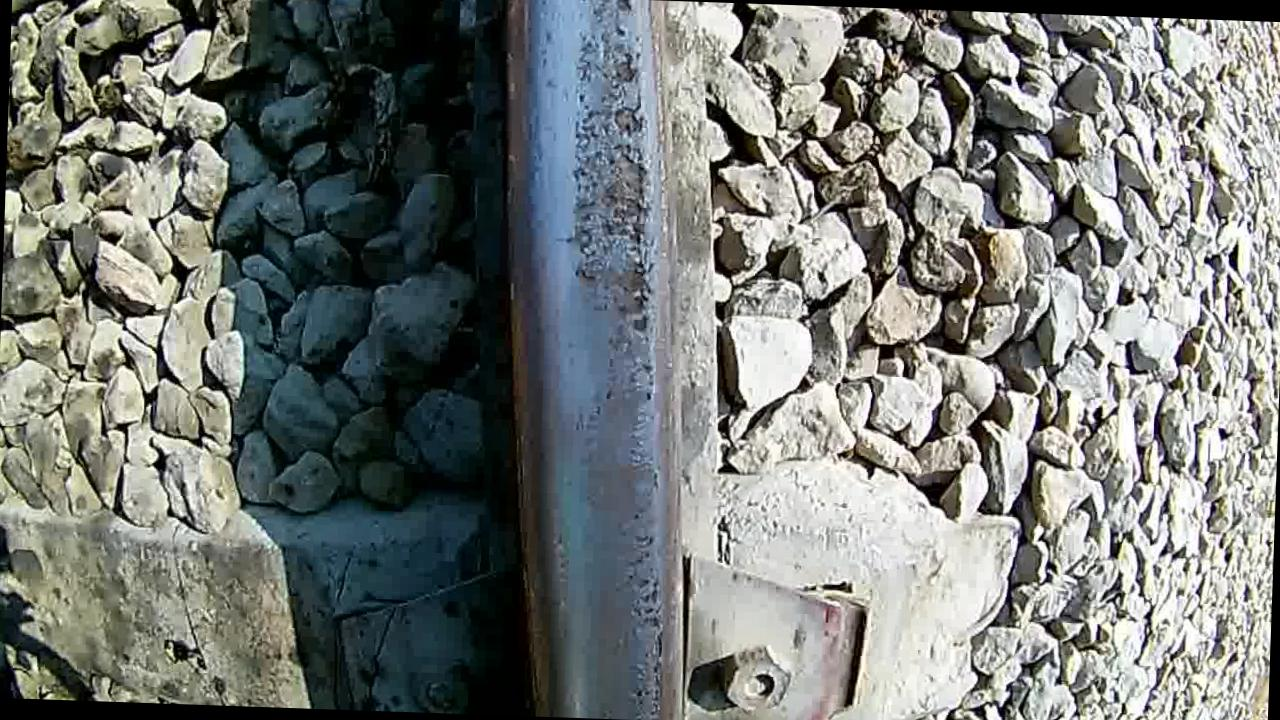crack: (493, 0, 695, 720)
